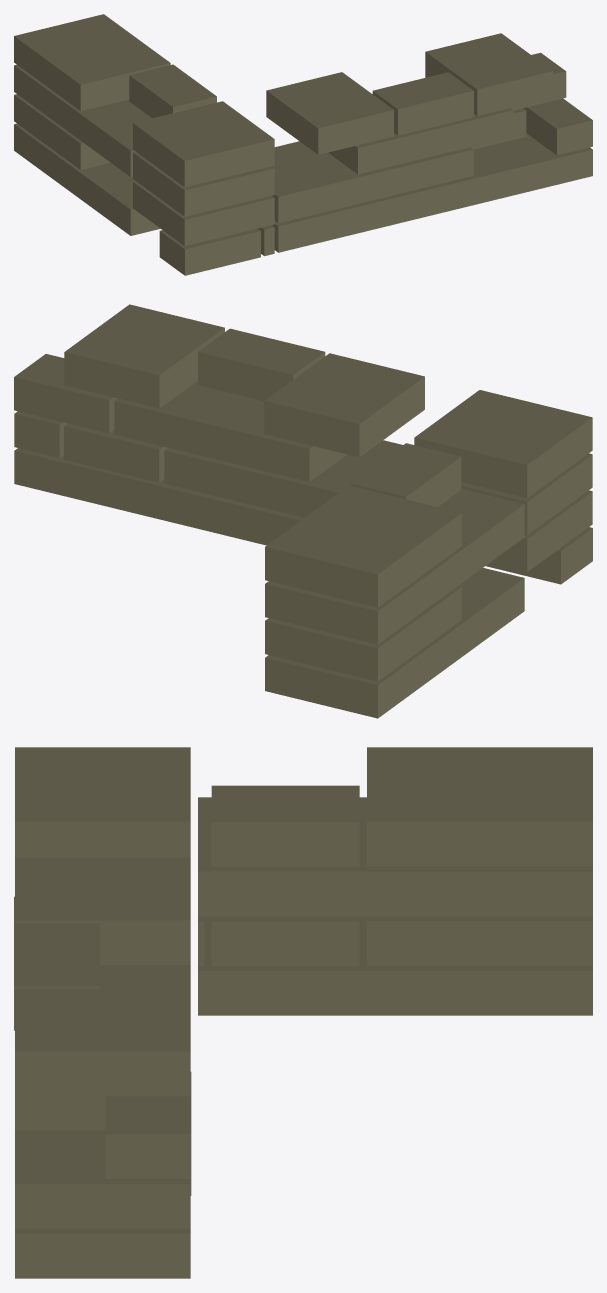
Rendered from SM_PretilEsquinaPaso_v0_Recto_e1_Danado_LOD1.fbx.
3 renders of one model, top to bottom at view 1: azimuth 30°, elevation 25°; view 2: azimuth 150°, elevation 25°; view 3: azimuth 270°, elevation 25°, orthographic. The views are drawn at different scales.
Parts seen in each view (by area): view 1: SM_pretil_azotea_v41_LOD1; view 2: SM_pretil_azotea_v41_LOD1; view 3: SM_pretil_azotea_v41_LOD1.
Part boxes in pixels (x1,y1,x2,y2): SM_pretil_azotea_v41_LOD1: [14, 14, 592, 275]; SM_pretil_azotea_v41_LOD1: [14, 304, 592, 718]; SM_pretil_azotea_v41_LOD1: [14, 747, 592, 1278].
Size of the model in its own units: 4.36 by 1.17 by 3.17.
